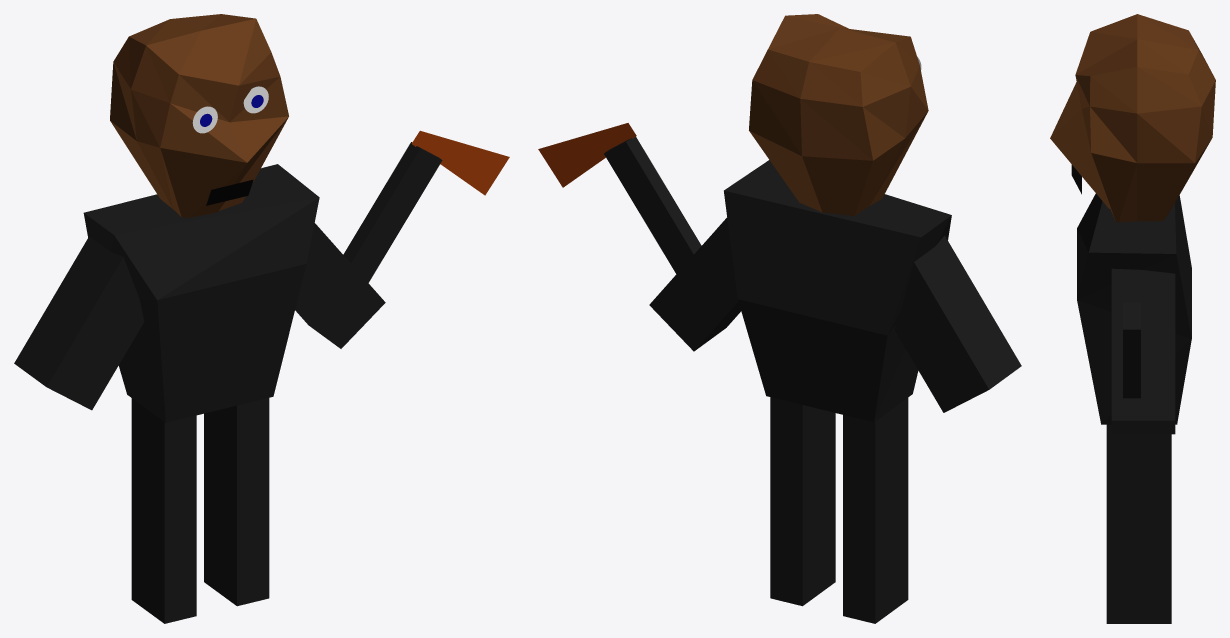
Rendered from axeman1.obj.
3 renders of one model, left to right at view 1: azimuth 30°, elevation 25°; view 2: azimuth 150°, elevation 25°; view 3: azimuth 270°, elevation 25°, orthographic.
Visible parts, largest first — view 1: Cube.001, Cube, Cube.004, Cube.005, Cube.003, Cube.002, Cube.007, Plane.001; view 2: Cube.001, Cube, Cube.004, Cube.005, Cube.003, Cube.002, Cube.007, Plane.001; view 3: Cube, Cube.005, Cube.001, Cube.002, Cube.007.
Part boxes in pixels (x1=…): Cube.001: x1=83, y1=164, x2=319, y2=422; Cube: x1=110, y1=14, x2=288, y2=217; Cube.004: x1=131, y1=398, x2=196, y2=623; Cube.005: x1=204, y1=398, x2=269, y2=606; Cube.003: x1=14, y1=236, x2=144, y2=410; Cube.002: x1=295, y1=223, x2=385, y2=348; Cube.007: x1=343, y1=142, x2=442, y2=282; Plane.001: x1=411, y1=130, x2=509, y2=195; Cube.001: x1=724, y1=160, x2=951, y2=422; Cube: x1=749, y1=14, x2=928, y2=215; Cube.004: x1=843, y1=398, x2=908, y2=623; Cube.005: x1=770, y1=397, x2=835, y2=606; Cube.003: x1=894, y1=235, x2=1021, y2=412; Cube.002: x1=649, y1=217, x2=740, y2=351; Cube.007: x1=604, y1=137, x2=701, y2=273; Plane.001: x1=538, y1=123, x2=636, y2=187; Cube: x1=1050, y1=14, x2=1215, y2=222; Cube.005: x1=1106, y1=424, x2=1171, y2=623; Cube.001: x1=1077, y1=193, x2=1191, y2=424; Cube.002: x1=1111, y1=268, x2=1175, y2=434; Cube.007: x1=1123, y1=302, x2=1140, y2=398.
Bounding box in the file's own units: 5.1 × 5.86 × 1.57.
